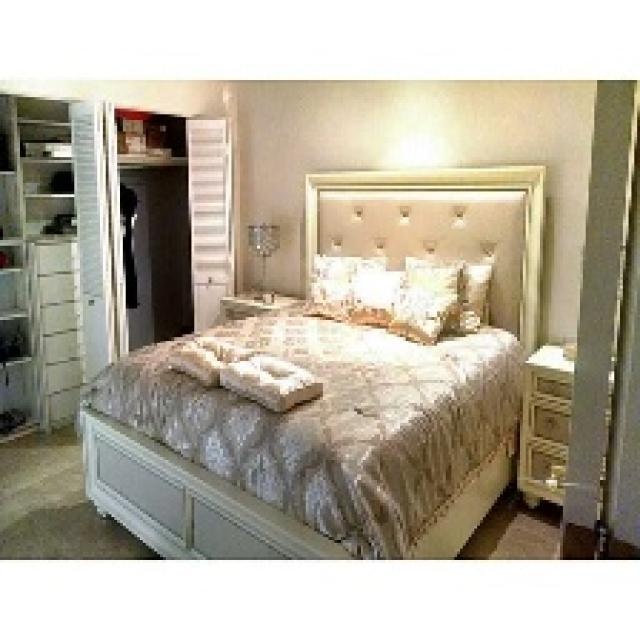Bed: (77, 163, 546, 557)
